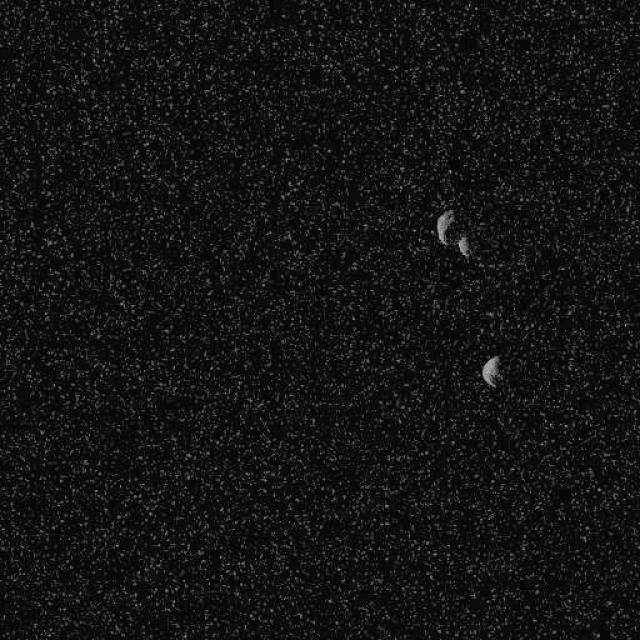D2: (480, 353, 501, 388), (435, 209, 455, 245), (456, 235, 472, 257)
